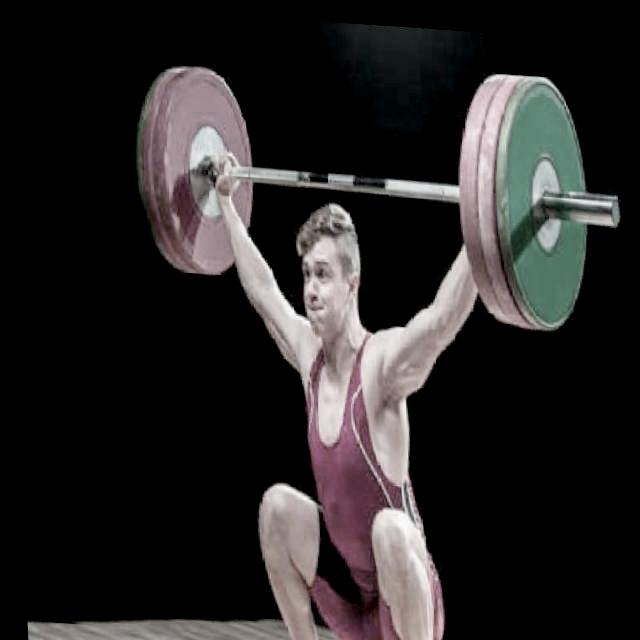barbell: (490, 63, 625, 332)
